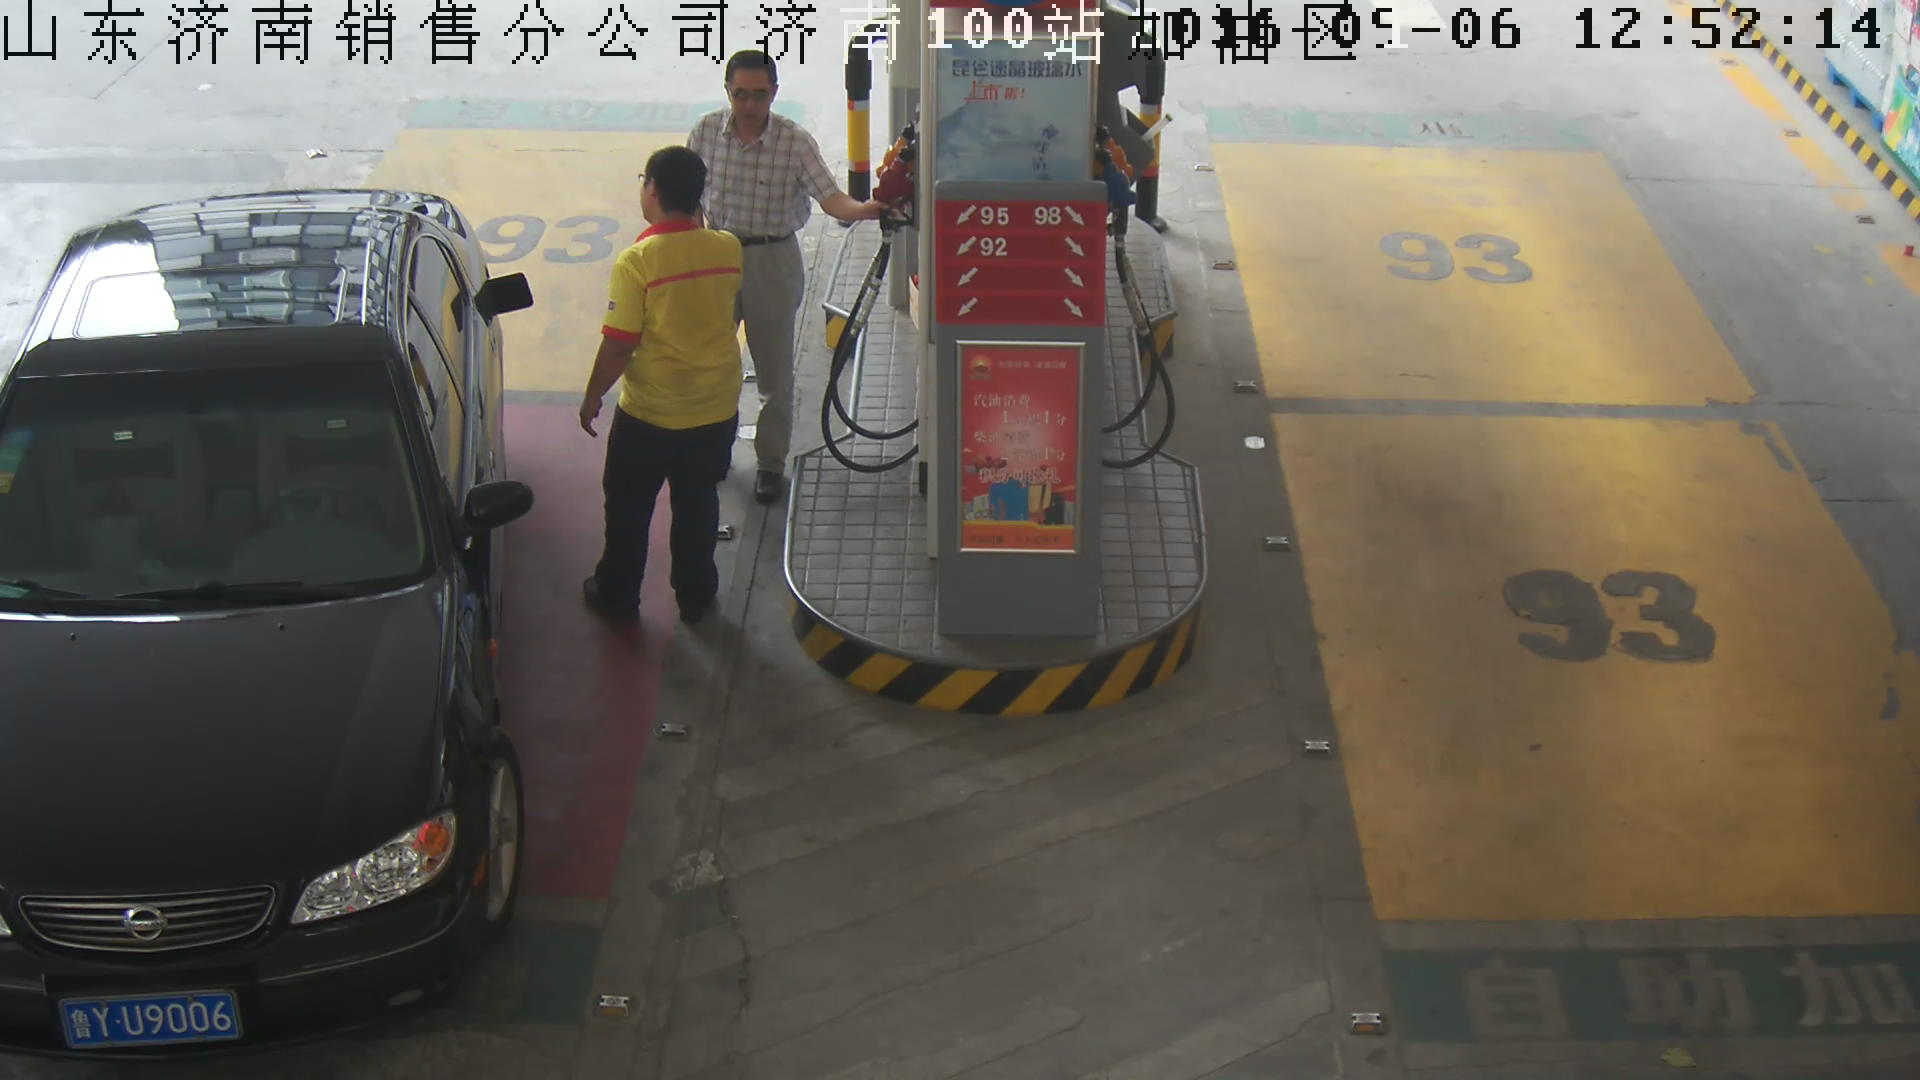blue: (58, 990, 244, 1052)
